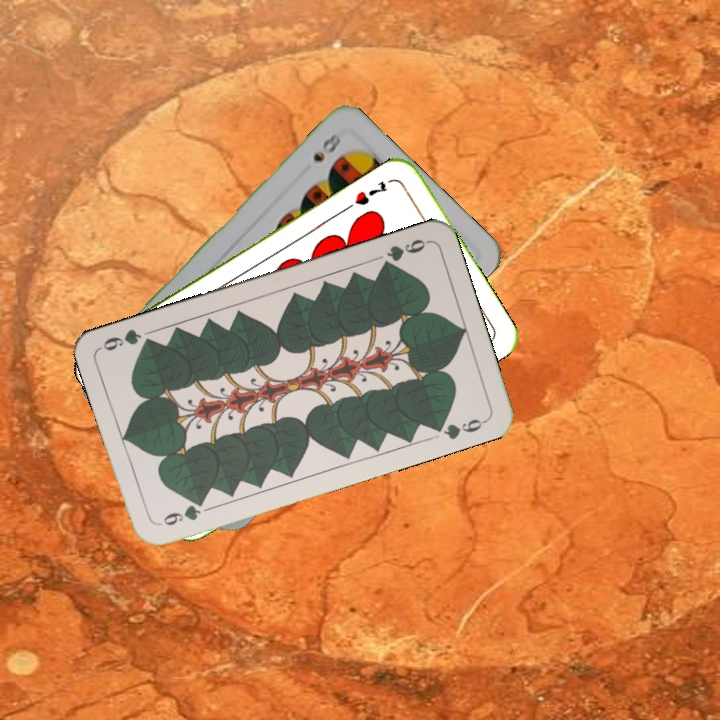G9: (377, 235, 431, 271), (155, 496, 208, 528)
H7: (350, 177, 391, 208)
S8: (308, 129, 344, 165)
